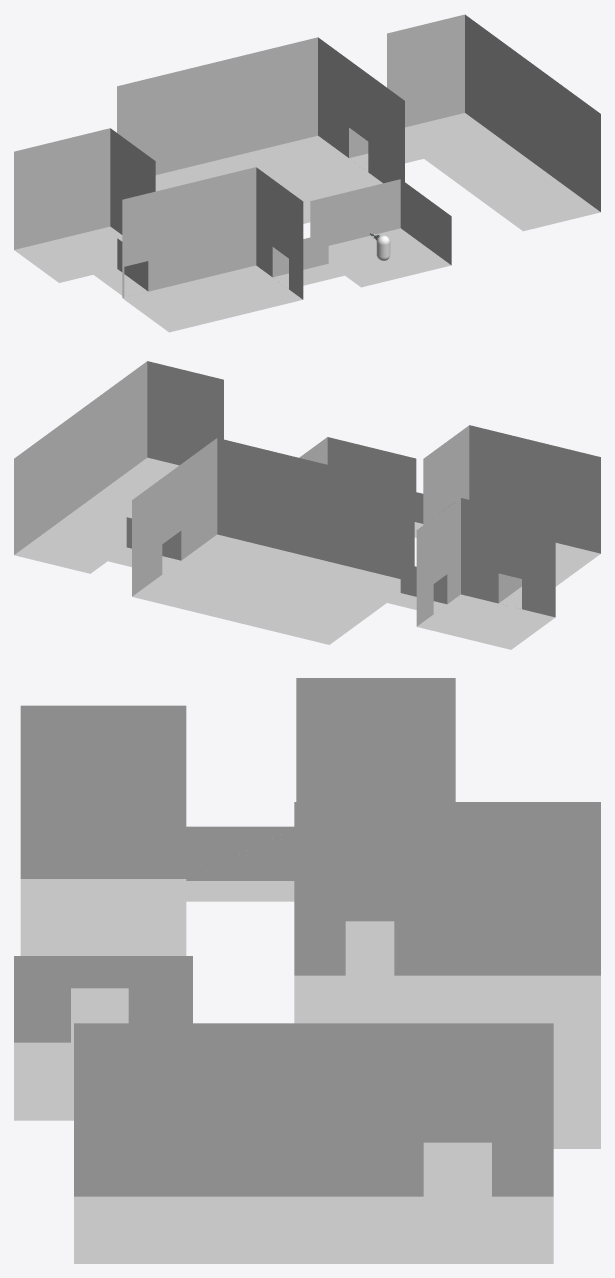
The model's file is main_level.gltf.
The picture shows the model from 3 angles, top to bottom: view 1: azimuth 30°, elevation 25°; view 2: azimuth 150°, elevation 25°; view 3: azimuth 270°, elevation 25°; orthographic projection. The views are drawn at different scales.
Visible parts, largest first — view 1: Room2; view 2: Room2; view 3: Room2.
Boxes of the visible parts, x1=… form: Room2: x1=14, y1=14, x2=600, y2=332; Room2: x1=14, y1=361, x2=600, y2=649; Room2: x1=14, y1=678, x2=600, y2=1263.
Bounding box in the file's own units: 40.75 × 8.11 × 24.52.
4 materials, 2 textured.
